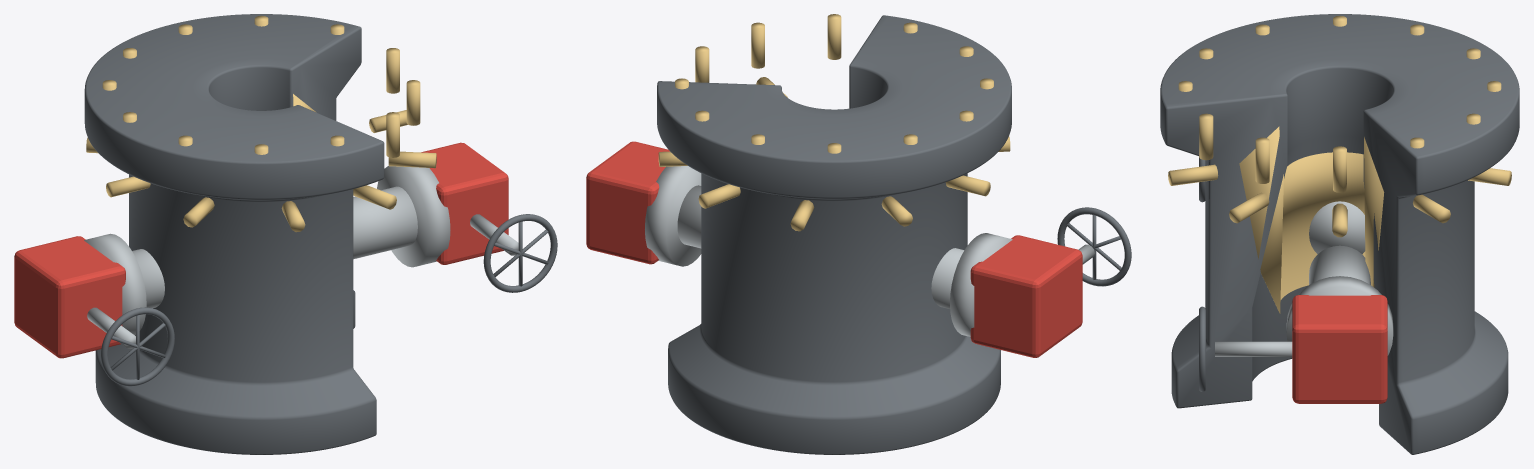
File: tubing-head.glb
The picture shows the model from 3 angles, left to right: view 1: azimuth 30°, elevation 25°; view 2: azimuth 150°, elevation 25°; view 3: azimuth 270°, elevation 25°; orthographic projection.
Visible parts, largest first — view 1: Tubing head bowl, Tubing outlet -1 gate, Tubing outlet 1 gate, Tubing outlet 1 flange, Tubing outlet 1 neck, Tubing outlet -1 flange, Tubing outlet 1 wheel, Tubing outlet -1 wheel, Tubing outlet -1 neck, Tubing head lock screw 9, Tubing outlet 1 stem, Tubing outlet -1 stem (+5 smaller); view 2: Tubing head bowl, Tubing outlet -1 gate, Tubing outlet 1 gate, Tubing outlet 1 flange, Tubing outlet -1 flange, Tubing outlet -1 wheel, Tubing outlet 1 neck, Tubing outlet -1 neck, Tubing head upper bolt 10, Tubing head upper bolt 11, Tubing head lock screw 2, Tubing head lock screw 5 (+1 smaller); view 3: Tubing head bowl, Polished bowl, Tubing outlet 1 gate, Tubing outlet -1 neck, Tubing outlet 1 neck, Tubing outlet 1 flange, Tubing outlet 1 stem, Tubing head lock screw 8, Tubing head upper bolt 11, Tubing head upper bolt 10, Tubing head lock screw 9, Tubing head upper bolt 0 (+4 smaller).
Part boxes in pixels (bbox=[...]): Tubing head bowl: bbox=[84, 14, 384, 454]; Tubing outlet -1 gate: bbox=[14, 236, 125, 358]; Tubing outlet 1 gate: bbox=[421, 142, 508, 264]; Tubing outlet 1 flange: bbox=[377, 166, 450, 267]; Tubing outlet 1 neck: bbox=[353, 186, 417, 259]; Tubing outlet -1 flange: bbox=[84, 233, 146, 335]; Tubing outlet 1 wheel: bbox=[483, 214, 557, 292]; Tubing outlet -1 wheel: bbox=[101, 307, 174, 386]; Tubing outlet -1 neck: bbox=[132, 249, 164, 308]; Tubing head lock screw 9: bbox=[388, 151, 436, 168]; Tubing outlet 1 stem: bbox=[470, 214, 518, 255]; Tubing outlet -1 stem: bbox=[87, 307, 135, 349]; Tubing head bowl: bbox=[657, 15, 1011, 454]; Tubing outlet -1 gate: bbox=[970, 235, 1082, 357]; Tubing outlet 1 gate: bbox=[586, 141, 669, 264]; Tubing outlet 1 flange: bbox=[645, 166, 701, 266]; Tubing outlet -1 flange: bbox=[950, 233, 1012, 336]; Tubing outlet -1 wheel: bbox=[1057, 207, 1131, 286]; Tubing outlet 1 neck: bbox=[677, 185, 701, 248]; Tubing outlet -1 neck: bbox=[931, 248, 964, 308]; Tubing head upper bolt 10: bbox=[827, 14, 841, 59]; Tubing head upper bolt 11: bbox=[751, 22, 764, 68]; Tubing head lock screw 2: bbox=[698, 184, 740, 208]; Tubing head lock screw 5: bbox=[945, 175, 990, 196]; Tubing head bowl: bbox=[1160, 14, 1519, 454]; Polished bowl: bbox=[1239, 126, 1384, 313]; Tubing outlet 1 gate: bbox=[1292, 295, 1387, 403]; Tubing outlet -1 neck: bbox=[1309, 201, 1365, 254]; Tubing outlet 1 neck: bbox=[1309, 245, 1370, 284]; Tubing outlet 1 flange: bbox=[1286, 276, 1393, 355]; Tubing outlet 1 stem: bbox=[1215, 341, 1292, 356]; Tubing head lock screw 8: bbox=[1168, 164, 1218, 185]; Tubing head upper bolt 11: bbox=[1255, 137, 1269, 183]; Tubing head upper bolt 10: bbox=[1199, 113, 1213, 160]; Tubing head lock screw 9: bbox=[1229, 192, 1269, 223]; Tubing head upper bolt 0: bbox=[1333, 146, 1346, 192].
Size of the model in its own units: 3.81 by 2.42 by 2.56.
